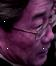without_mask: (1, 1, 56, 66)
